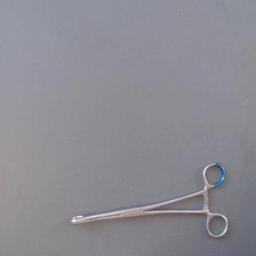Sponge Forceps: (68, 160, 232, 242)
